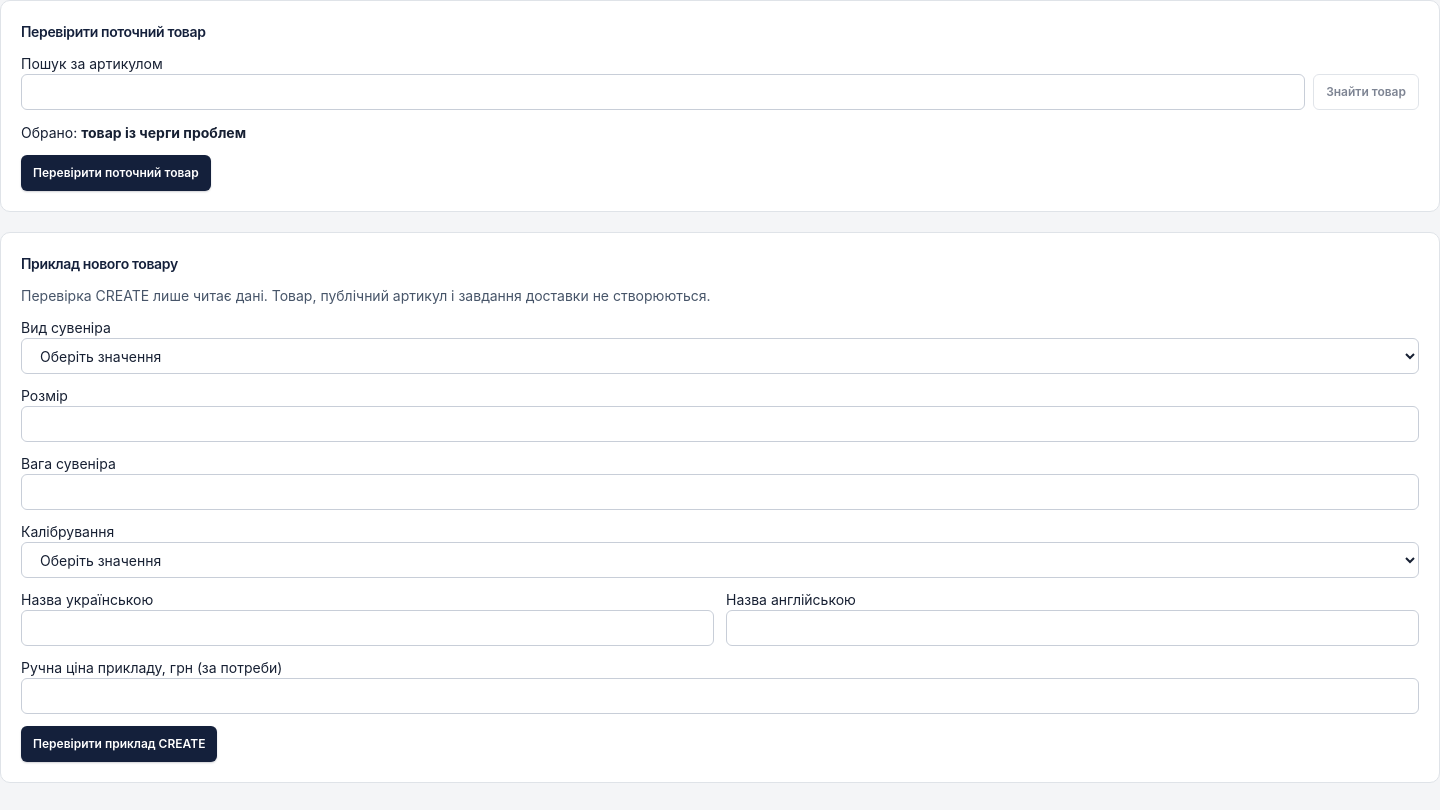
Test: accepts the exact product repair context without a search or automatic preview
Expected: the dropdown labelled "Вид сувеніра" is shown, [21, 338, 1419, 374]
Expected: the text "товар із черги проблем" is shown, [81, 124, 246, 141]
Click the button "Перевірити поточний товар": [116, 173] box [21, 155, 211, 191]
(page scrolled)
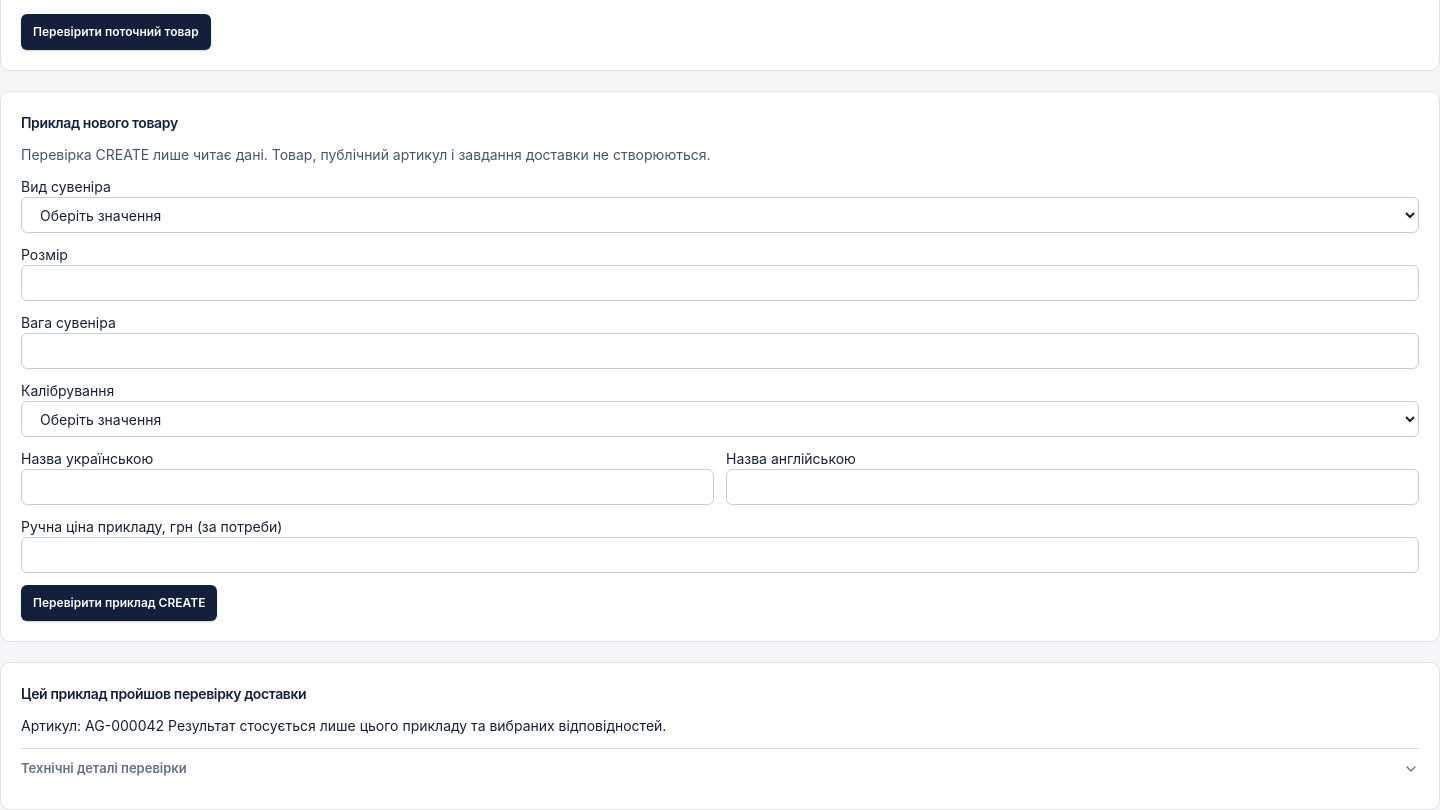
Expected: the heading "Цей приклад пройшов перевірку доставки" is shown, [21, 685, 306, 702]
